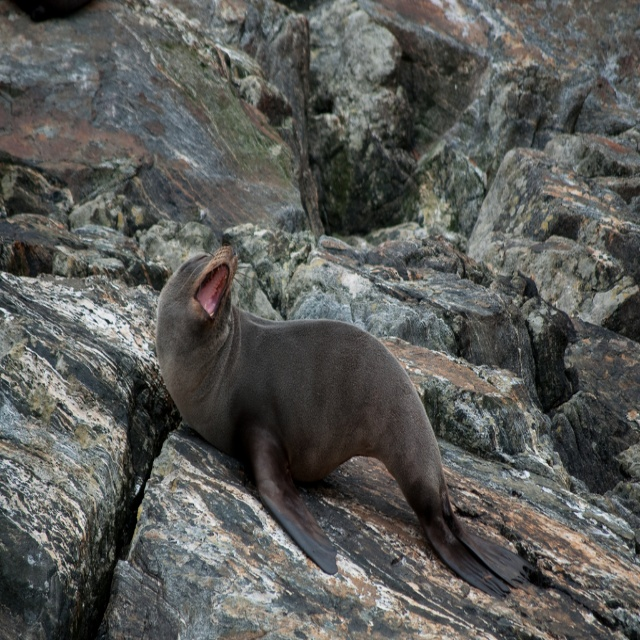Otter: (170, 240, 474, 583)
